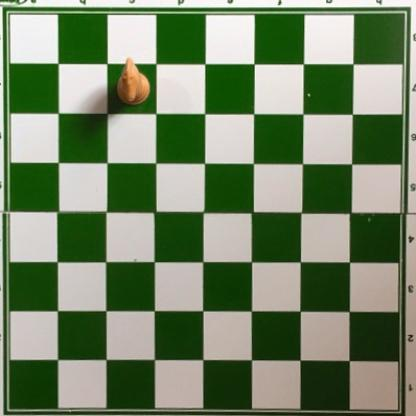white-knight: (114, 58, 151, 108)
